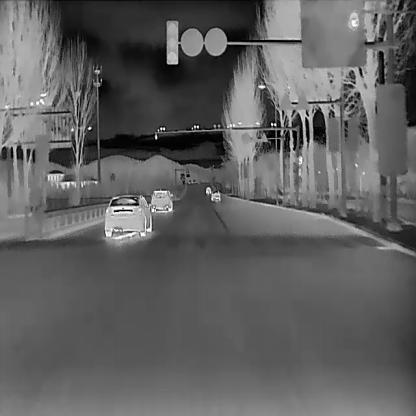car: (103, 193, 152, 236), (149, 187, 173, 211), (209, 189, 220, 201), (204, 186, 211, 195)
